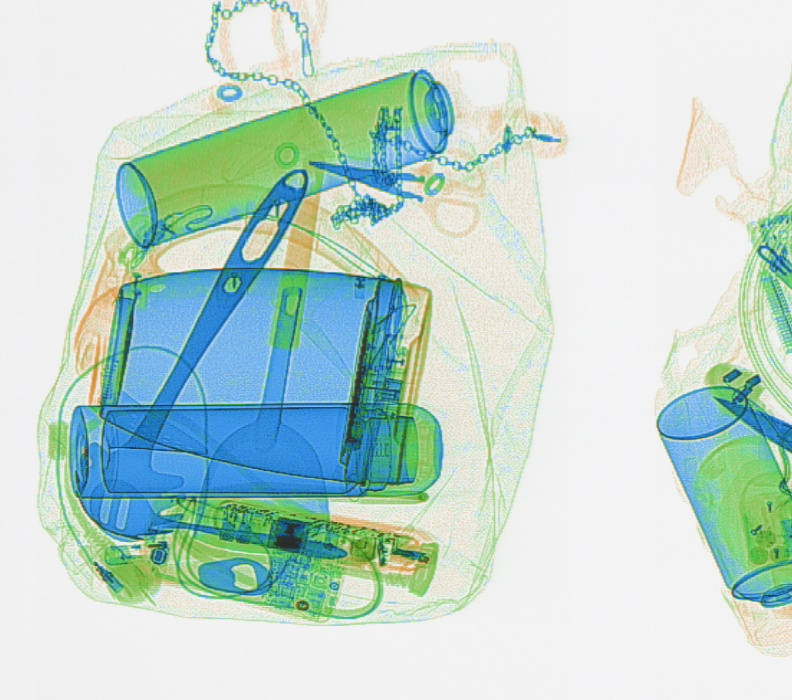lighter: (101, 536, 209, 564)
pressure: (111, 63, 458, 252), (656, 378, 789, 660)
scissors: (306, 145, 486, 238)
